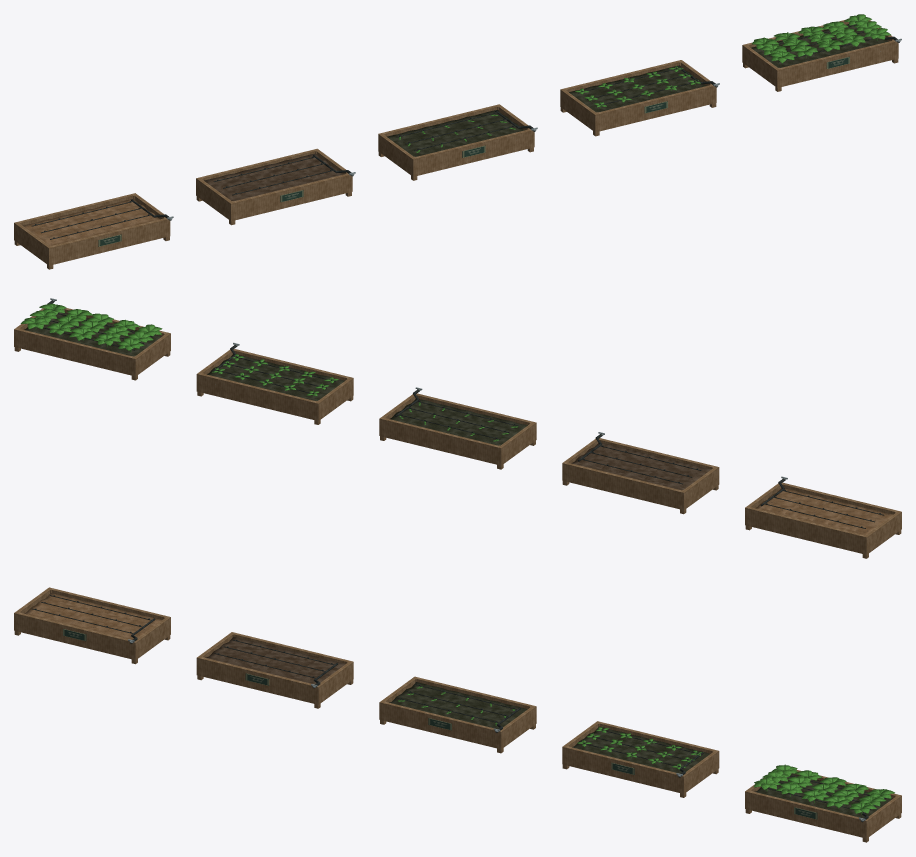
The model's file is PROJECT_Z_VegetableGarden_Kit_Catalogue.glb.
3 views of the same model, one above another, from view 1: azimuth 30°, elevation 25°; view 2: azimuth 150°, elevation 25°; view 3: azimuth 330°, elevation 25° (orthographic).
Visible parts, largest first — view 1: SM_FRESH_TILLED_SOIL_FRESH_NODE, SM_DRY_EMPTY_SOIL_DRY_NODE, SM_SPROUTING_SOIL_WET_NODE, SM_SEEDLINGS_SOIL_WET_NODE, SM_DRY_EMPTY_FRAME_FRONT_NODE, SM_SPROUTING_FRAME_FRONT_NODE, SM_FRESH_TILLED_FRAME_FRONT_NODE, SM_SEEDLINGS_FRAME_FRONT_NODE, SM_MATURE_GREENS_FRAME_FRONT_NODE, SM_MATURE_GREENS_SOIL_WET_NODE, SM_DRY_EMPTY_FRAME_REAR_NODE, SM_SEEDLINGS_FRAME_REAR_NODE (+7 smaller); view 2: SM_FRESH_TILLED_SOIL_FRESH_NODE, SM_DRY_EMPTY_SOIL_DRY_NODE, SM_SPROUTING_SOIL_WET_NODE, SM_SEEDLINGS_SOIL_WET_NODE, SM_SEEDLINGS_FRAME_REAR_NODE, SM_SPROUTING_FRAME_REAR_NODE, SM_DRY_EMPTY_FRAME_REAR_NODE, SM_MATURE_GREENS_FRAME_REAR_NODE, SM_FRESH_TILLED_FRAME_REAR_NODE, SM_MATURE_GREENS_SOIL_WET_NODE, SM_DRY_EMPTY_FRAME_FRONT_NODE, SM_SPROUTING_FRAME_FRONT_NODE (+7 smaller); view 3: SM_FRESH_TILLED_SOIL_FRESH_NODE, SM_DRY_EMPTY_SOIL_DRY_NODE, SM_SPROUTING_SOIL_WET_NODE, SM_SEEDLINGS_SOIL_WET_NODE, SM_FRESH_TILLED_FRAME_FRONT_NODE, SM_SPROUTING_FRAME_FRONT_NODE, SM_SEEDLINGS_FRAME_FRONT_NODE, SM_MATURE_GREENS_FRAME_FRONT_NODE, SM_DRY_EMPTY_FRAME_FRONT_NODE, SM_MATURE_GREENS_SOIL_WET_NODE, SM_DRY_EMPTY_FRAME_REAR_NODE, SM_SPROUTING_FRAME_REAR_NODE (+7 smaller).
Boxes of the visible parts, bbox=[...] form: SM_FRESH_TILLED_SOIL_FRESH_NODE: bbox=[204, 153, 343, 201]; SM_DRY_EMPTY_SOIL_DRY_NODE: bbox=[23, 199, 159, 245]; SM_SPROUTING_SOIL_WET_NODE: bbox=[387, 110, 524, 156]; SM_SEEDLINGS_SOIL_WET_NODE: bbox=[569, 65, 706, 112]; SM_DRY_EMPTY_FRAME_FRONT_NODE: bbox=[47, 218, 170, 265]; SM_SPROUTING_FRAME_FRONT_NODE: bbox=[411, 129, 534, 176]; SM_FRESH_TILLED_FRAME_FRONT_NODE: bbox=[229, 173, 352, 221]; SM_SEEDLINGS_FRAME_FRONT_NODE: bbox=[593, 84, 716, 132]; SM_MATURE_GREENS_FRAME_FRONT_NODE: bbox=[775, 40, 898, 87]; SM_MATURE_GREENS_SOIL_WET_NODE: bbox=[751, 24, 888, 67]; SM_DRY_EMPTY_FRAME_REAR_NODE: bbox=[14, 193, 136, 241]; SM_SEEDLINGS_FRAME_REAR_NODE: bbox=[560, 60, 683, 107]; SM_FRESH_TILLED_SOIL_FRESH_NODE: bbox=[571, 443, 711, 490]; SM_DRY_EMPTY_SOIL_DRY_NODE: bbox=[755, 488, 892, 534]; SM_SPROUTING_SOIL_WET_NODE: bbox=[390, 399, 527, 445]; SM_SEEDLINGS_SOIL_WET_NODE: bbox=[207, 354, 344, 400]; SM_SEEDLINGS_FRAME_REAR_NODE: bbox=[196, 372, 320, 420]; SM_SPROUTING_FRAME_REAR_NODE: bbox=[379, 417, 503, 465]; SM_DRY_EMPTY_FRAME_REAR_NODE: bbox=[745, 506, 868, 554]; SM_MATURE_GREENS_FRAME_REAR_NODE: bbox=[14, 328, 137, 376]; SM_FRESH_TILLED_FRAME_REAR_NODE: bbox=[562, 461, 685, 510]; SM_MATURE_GREENS_SOIL_WET_NODE: bbox=[24, 312, 162, 356]; SM_DRY_EMPTY_FRAME_FRONT_NODE: bbox=[781, 482, 901, 530]; SM_SPROUTING_FRAME_FRONT_NODE: bbox=[417, 393, 536, 440]; SM_FRESH_TILLED_SOIL_FRESH_NODE: bbox=[205, 636, 345, 684]; SM_DRY_EMPTY_SOIL_DRY_NODE: bbox=[24, 593, 161, 639]; SM_SPROUTING_SOIL_WET_NODE: bbox=[389, 682, 527, 728]; SM_SEEDLINGS_SOIL_WET_NODE: bbox=[572, 726, 710, 773]; SM_FRESH_TILLED_FRAME_FRONT_NODE: bbox=[196, 656, 320, 704]; SM_SPROUTING_FRAME_FRONT_NODE: bbox=[379, 701, 503, 749]; SM_SEEDLINGS_FRAME_FRONT_NODE: bbox=[562, 745, 685, 793]; SM_MATURE_GREENS_FRAME_FRONT_NODE: bbox=[745, 790, 868, 838]; SM_DRY_EMPTY_FRAME_FRONT_NODE: bbox=[14, 611, 137, 660]; SM_MATURE_GREENS_SOIL_WET_NODE: bbox=[754, 773, 892, 818]; SM_DRY_EMPTY_FRAME_REAR_NODE: bbox=[47, 587, 170, 635]; SM_SPROUTING_FRAME_REAR_NODE: bbox=[413, 676, 536, 724].
Size of the model in its own units: 14.01 by 0.5064 by 1.09.
Materials: 8 (8 with a texture image).
